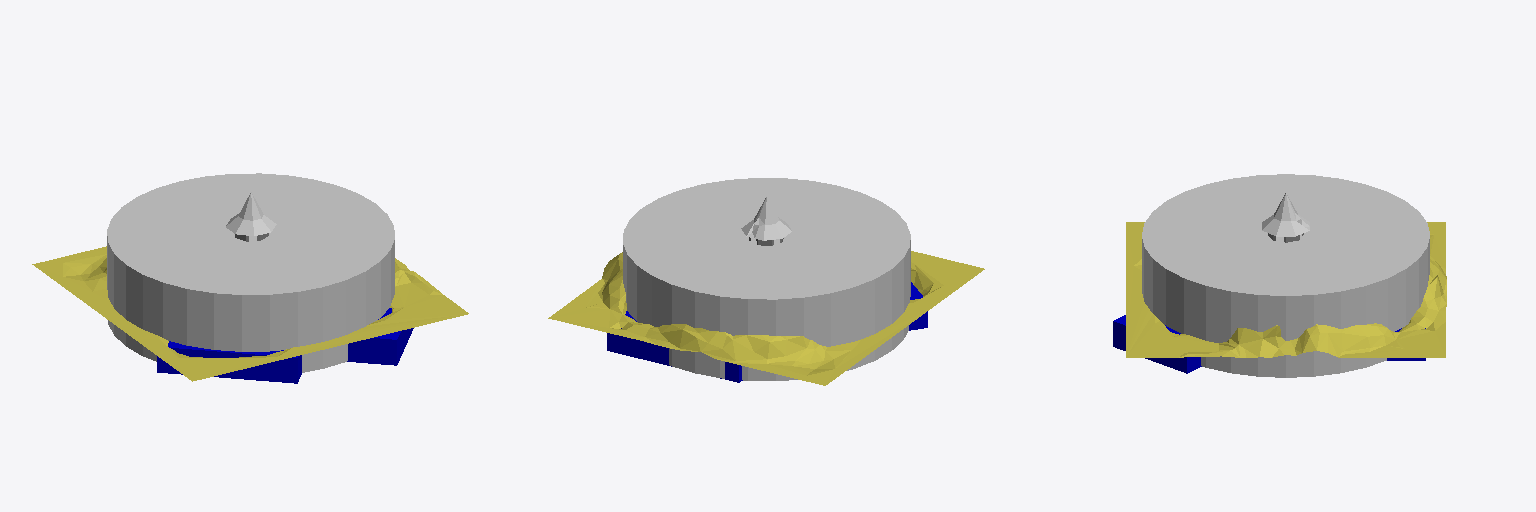
The model's file is wwmap.obj.
3 views of the same model, side by side, from view 1: azimuth 30°, elevation 25°; view 2: azimuth 150°, elevation 25°; view 3: azimuth 270°, elevation 25° (orthographic).
Visible parts, largest first — view 1: Wall_Cylinder.001, Sand_Plane.002, back-water.001_Cube.004, back-water.002_Cube.005, Cone; view 2: Wall_Cylinder.001, Sand_Plane.002, back-water_Cube.002, Cone; view 3: Wall_Cylinder.001, Sand_Plane.002, Cone, back-water.002_Cube.005.
Part boxes in pixels (x1,y1,x2,y2): Wall_Cylinder.001: (107, 173, 394, 372); Sand_Plane.002: (32, 246, 468, 381); back-water.001_Cube.004: (157, 341, 301, 383); back-water.002_Cube.005: (347, 308, 413, 365); Cone: (226, 192, 276, 235); Wall_Cylinder.001: (623, 178, 910, 380); Sand_Plane.002: (548, 251, 984, 385); back-water_Cube.002: (607, 311, 742, 382); Cone: (741, 197, 791, 240); Wall_Cylinder.001: (1142, 174, 1429, 377); Sand_Plane.002: (1126, 222, 1446, 357); Cone: (1262, 193, 1309, 236); back-water.002_Cube.005: (1113, 315, 1201, 373).
Size of the model in its own units: 360 by 153 by 370.